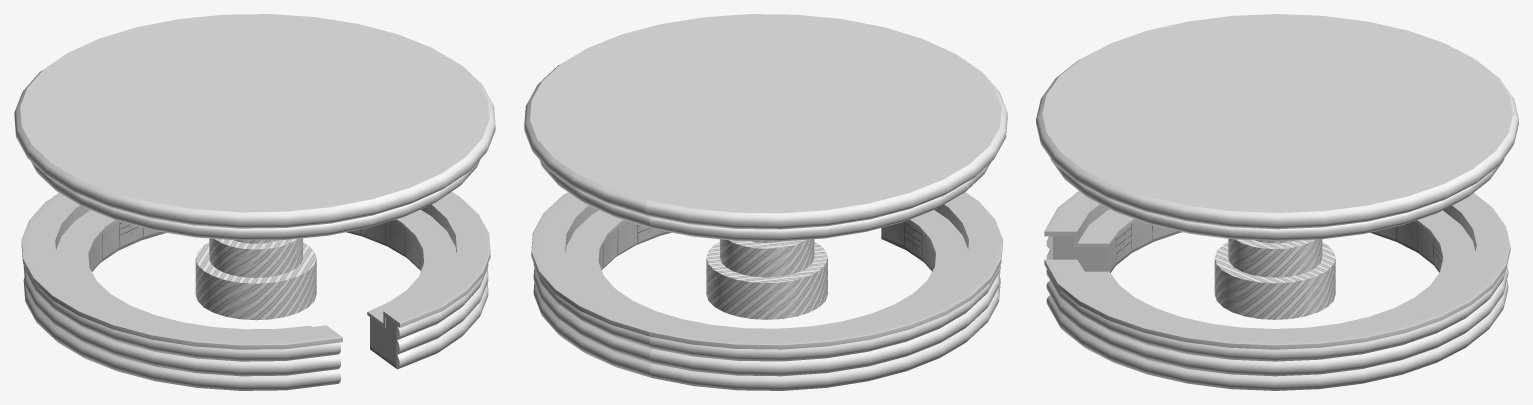
The model's file is Bar03.FBX.
3 renders of one model, left to right at view 1: azimuth 30°, elevation 25°; view 2: azimuth 150°, elevation 25°; view 3: azimuth 270°, elevation 25°, orthographic.
Parts seen in each view (by area): view 1: Bar03R, Bar03L, Bar03Rack; view 2: Bar03R, Bar03L, Bar03Rack; view 3: Bar03L, Bar03R, Bar03Rack.
Boxes of the visible parts, x1=… form: Bar03R: x1=14, y1=27, x2=375, y2=390; Bar03L: x1=137, y1=14, x2=495, y2=369; Bar03Rack: x1=195, y1=238, x2=316, y2=320; Bar03R: x1=645, y1=27, x2=1007, y2=390; Bar03L: x1=524, y1=14, x2=883, y2=377; Bar03Rack: x1=706, y1=239, x2=827, y2=319; Bar03L: x1=1036, y1=113, x2=1518, y2=390; Bar03R: x1=1036, y1=14, x2=1518, y2=284; Bar03Rack: x1=1214, y1=239, x2=1335, y2=319.
Bounding box in the file's own units: 424 × 175 × 424.
